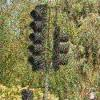traffic lights: (53, 25, 69, 70)
